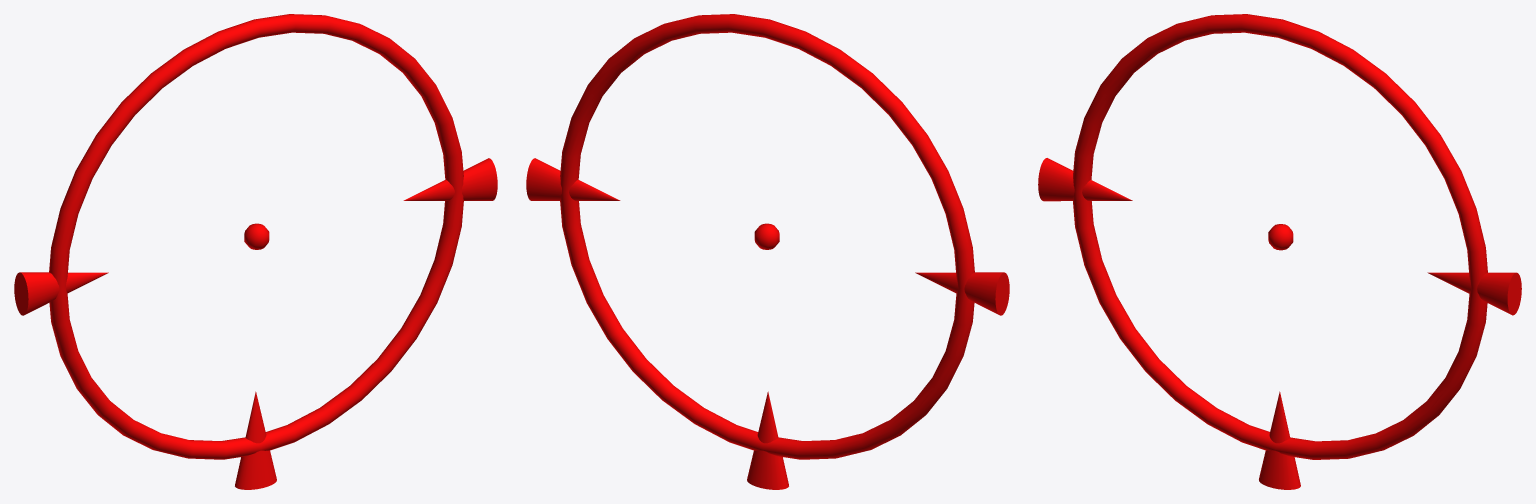
The model's file is ch_pointRed.DAE.
3 views of the same model, side by side, from view 1: azimuth 30°, elevation 25°; view 2: azimuth 150°, elevation 25°; view 3: azimuth 330°, elevation 25° (orthographic).
Parts seen in each view (by area): view 1: Torus009, Kegel007, Kegel006, Kegel005, Kugel001; view 2: Torus009, Kegel007, Kegel006, Kegel005, Kugel001; view 3: Torus009, Kegel005, Kegel007, Kegel006, Kugel001.
Boxes of the visible parts, x1,y1,x2,y2 form: Torus009: (49,14,463,459); Kegel007: (14,272,108,315); Kegel006: (235,391,276,489); Kegel005: (403,158,497,200); Kugel001: (244,223,269,249); Torus009: (560,14,974,459); Kegel007: (915,272,1009,315); Kegel006: (747,391,788,489); Kegel005: (526,158,620,200); Kugel001: (754,223,779,249); Torus009: (1073,14,1487,459); Kegel005: (1427,272,1521,315); Kegel007: (1038,158,1132,201); Kegel006: (1259,391,1300,489); Kugel001: (1268,224,1293,250).
Size of the model in its own units: 0.3064 by 0.0161 by 0.2888.
1 material, 1 textured.
